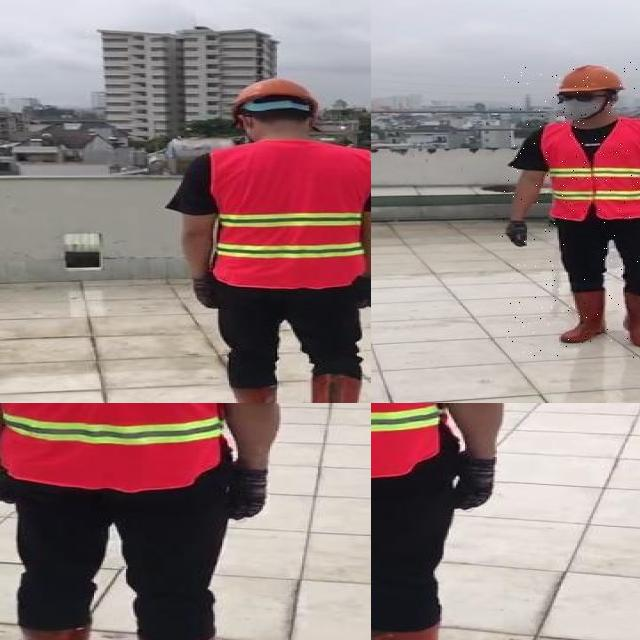boots: (561, 290, 607, 344), (310, 373, 364, 403), (619, 291, 640, 346), (229, 384, 284, 403)
hand_glove: (451, 454, 499, 511), (233, 469, 268, 519), (190, 276, 220, 310), (357, 277, 371, 310)
head_helmet: (227, 76, 323, 118), (556, 61, 630, 95)
person: (0, 403, 309, 640), (167, 73, 371, 403), (502, 62, 640, 358), (371, 403, 528, 640)
vest: (209, 142, 371, 285), (0, 403, 236, 490), (543, 120, 640, 219)
